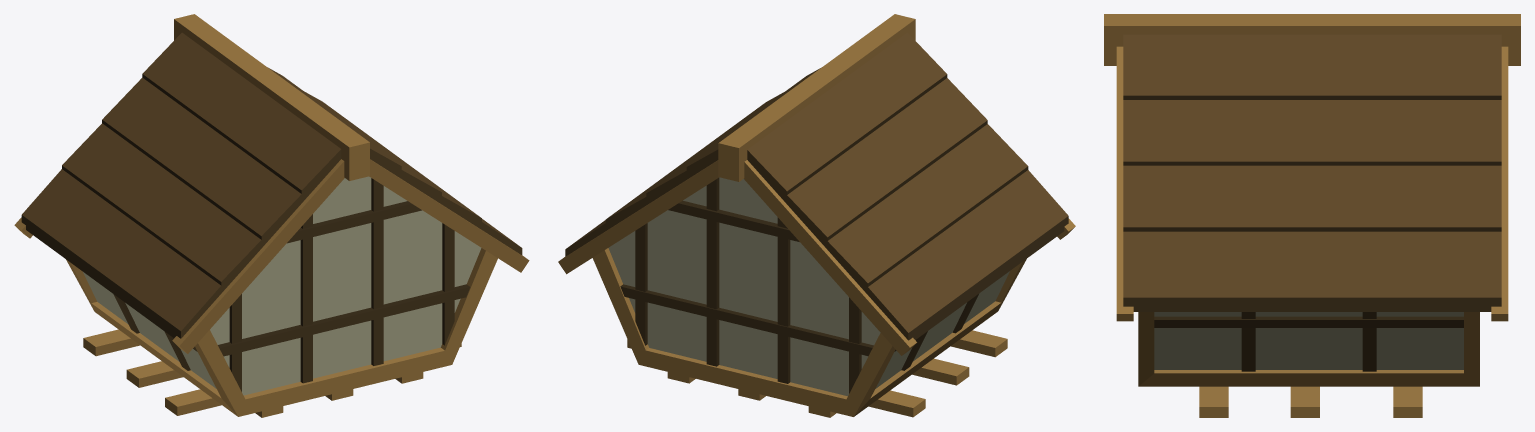
The model's file is SF_Bld_HouseAdd_RoofRoom_01.fbx.
The picture shows the model from 3 angles, left to right: view 1: azimuth 30°, elevation 25°; view 2: azimuth 150°, elevation 25°; view 3: azimuth 270°, elevation 25°; orthographic projection. The views are drawn at different scales.
Parts seen in each view (by area): view 1: SF_Bld_HouseAdd_RoofRoom_01; view 2: SF_Bld_HouseAdd_RoofRoom_01; view 3: SF_Bld_HouseAdd_RoofRoom_01.
Boxes of the visible parts, <box> form: SF_Bld_HouseAdd_RoofRoom_01: <box>14,14,529,417</box>; SF_Bld_HouseAdd_RoofRoom_01: <box>558,14,1075,417</box>; SF_Bld_HouseAdd_RoofRoom_01: <box>1104,14,1520,417</box>.
Size of the model in its own units: 8.9 by 6.45 by 7.72.
